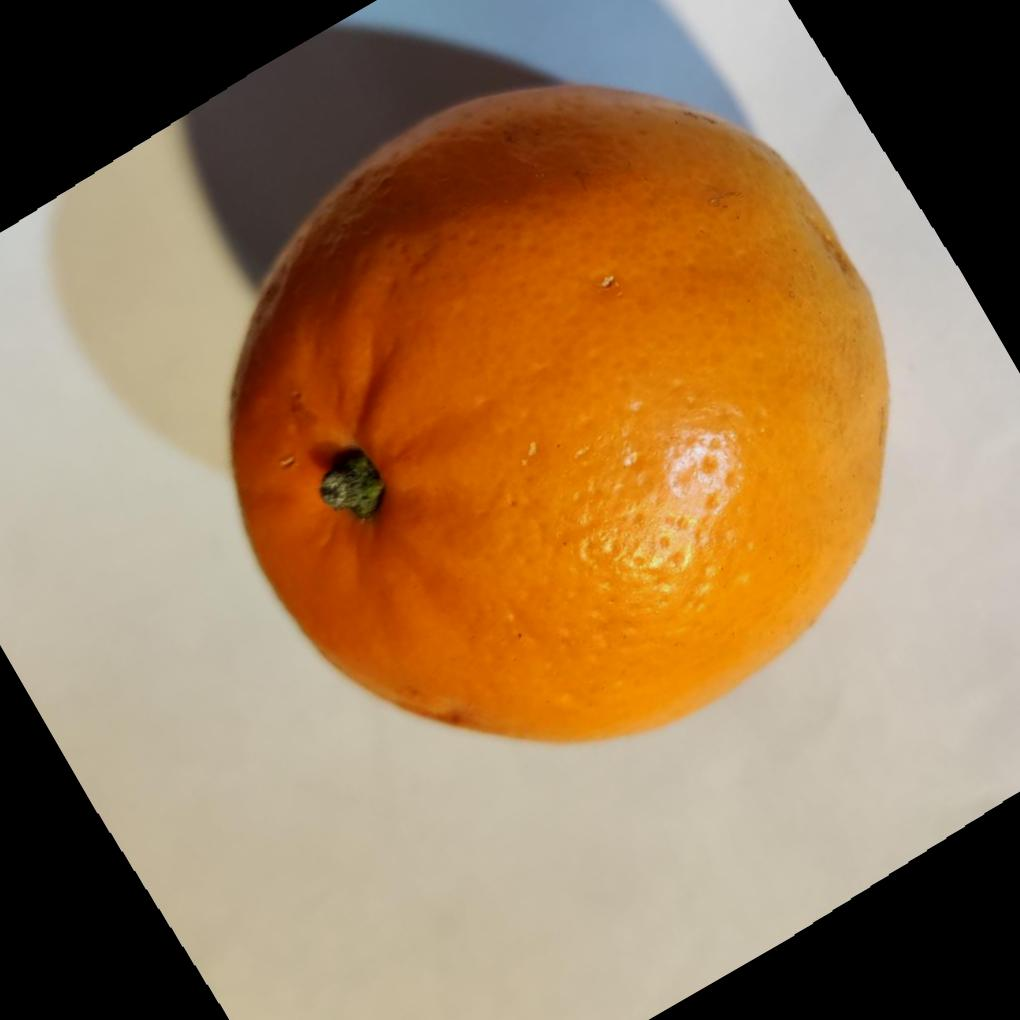FreshGuava: (224, 76, 889, 742)
